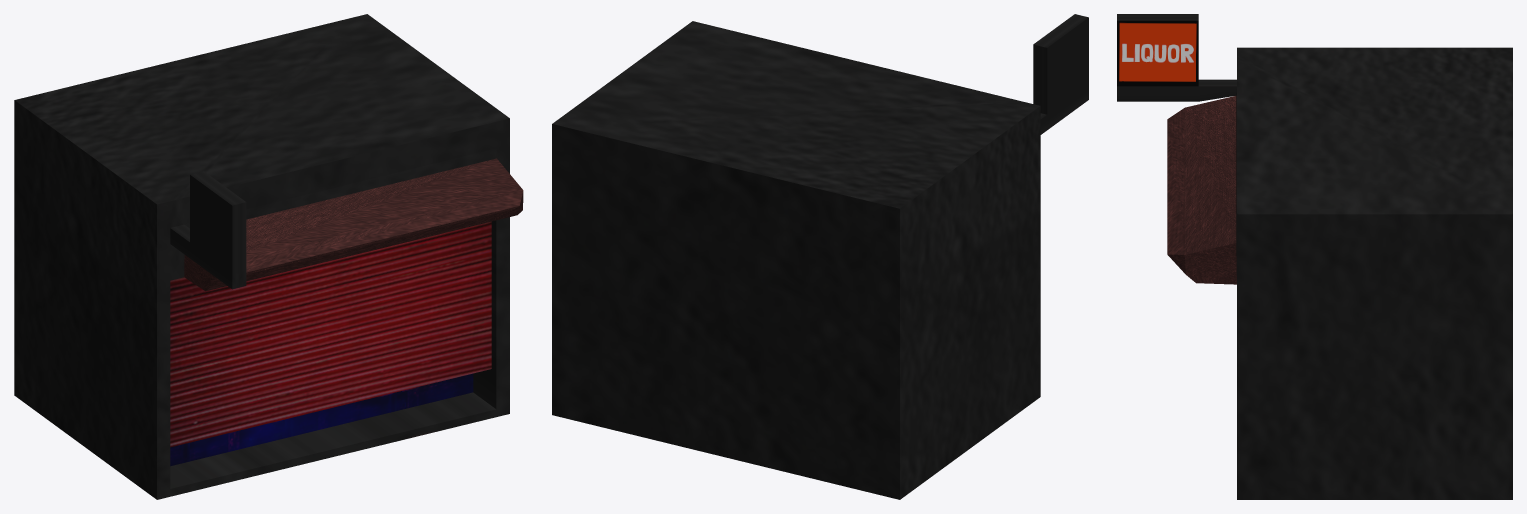
The model's file is Lojinha.obj.
3 renders of one model, left to right at view 1: azimuth 30°, elevation 25°; view 2: azimuth 150°, elevation 25°; view 3: azimuth 270°, elevation 25°, orthographic. The views are drawn at different scales.
Visible parts, largest first — view 1: Cube_Cube.001; view 2: Cube_Cube.001; view 3: Cube_Cube.001.
Part boxes in pixels (x1,y1,x2,y2): Cube_Cube.001: (14, 14, 523, 499); Cube_Cube.001: (552, 14, 1088, 499); Cube_Cube.001: (1117, 14, 1512, 499).
Size of the model in its own units: 10 by 9.11 by 10.05.
